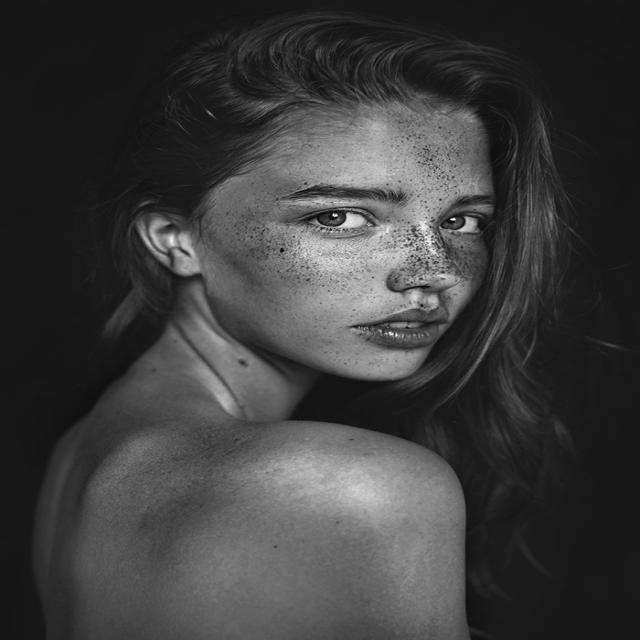earlobe: (168, 250, 202, 278)
eye: (300, 207, 382, 232), (438, 212, 486, 233)
nose: (390, 279, 473, 308)
wholeear: (131, 200, 202, 278)
